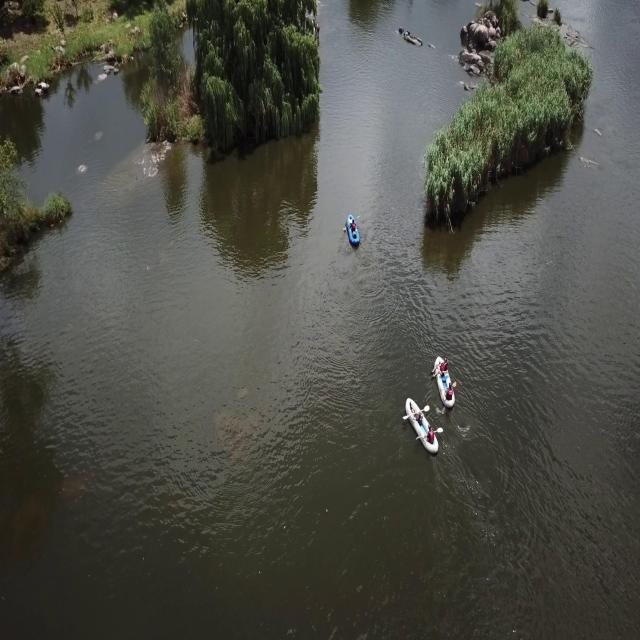kayak: (402, 395, 444, 457), (430, 351, 459, 416), (345, 213, 362, 253)
